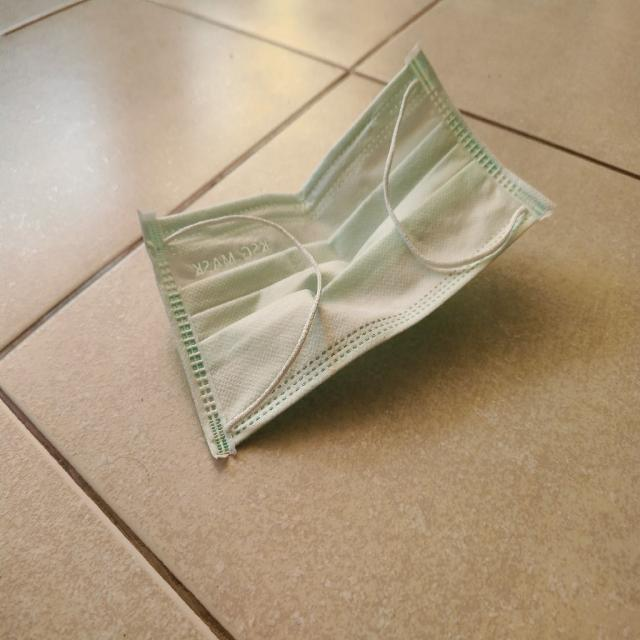non-organic waste: (139, 46, 549, 451)
